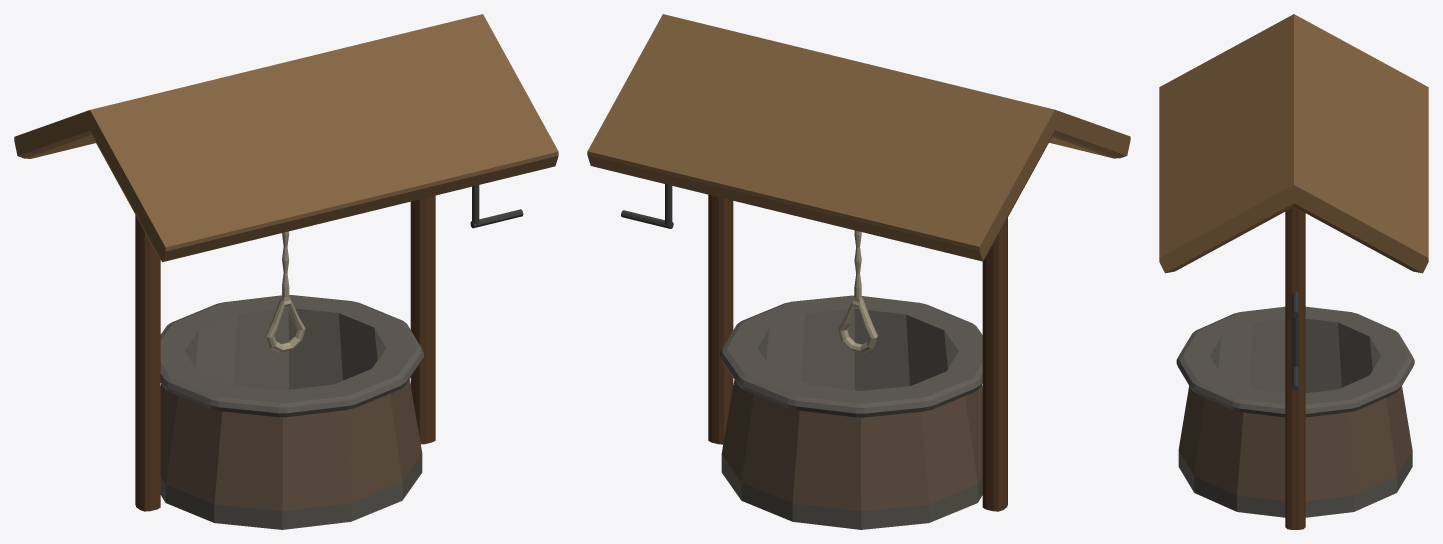
The model's file is Pozo de agua.fbx.
The picture shows the model from 3 angles, left to right: view 1: azimuth 30°, elevation 25°; view 2: azimuth 150°, elevation 25°; view 3: azimuth 270°, elevation 25°; orthographic projection. The views are drawn at different scales.
Parts seen in each view (by area): view 1: Circle; view 2: Circle; view 3: Circle.
Boxes of the visible parts, x1=… form: Circle: x1=14, y1=14, x2=558, y2=529; Circle: x1=587, y1=14, x2=1130, y2=529; Circle: x1=1159, y1=14, x2=1428, y2=529.
Size of the model in its own units: 660 by 601 by 400.
